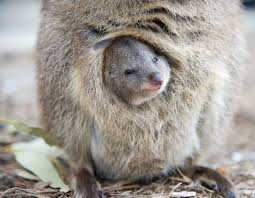quokka: (73, 27, 188, 110)
